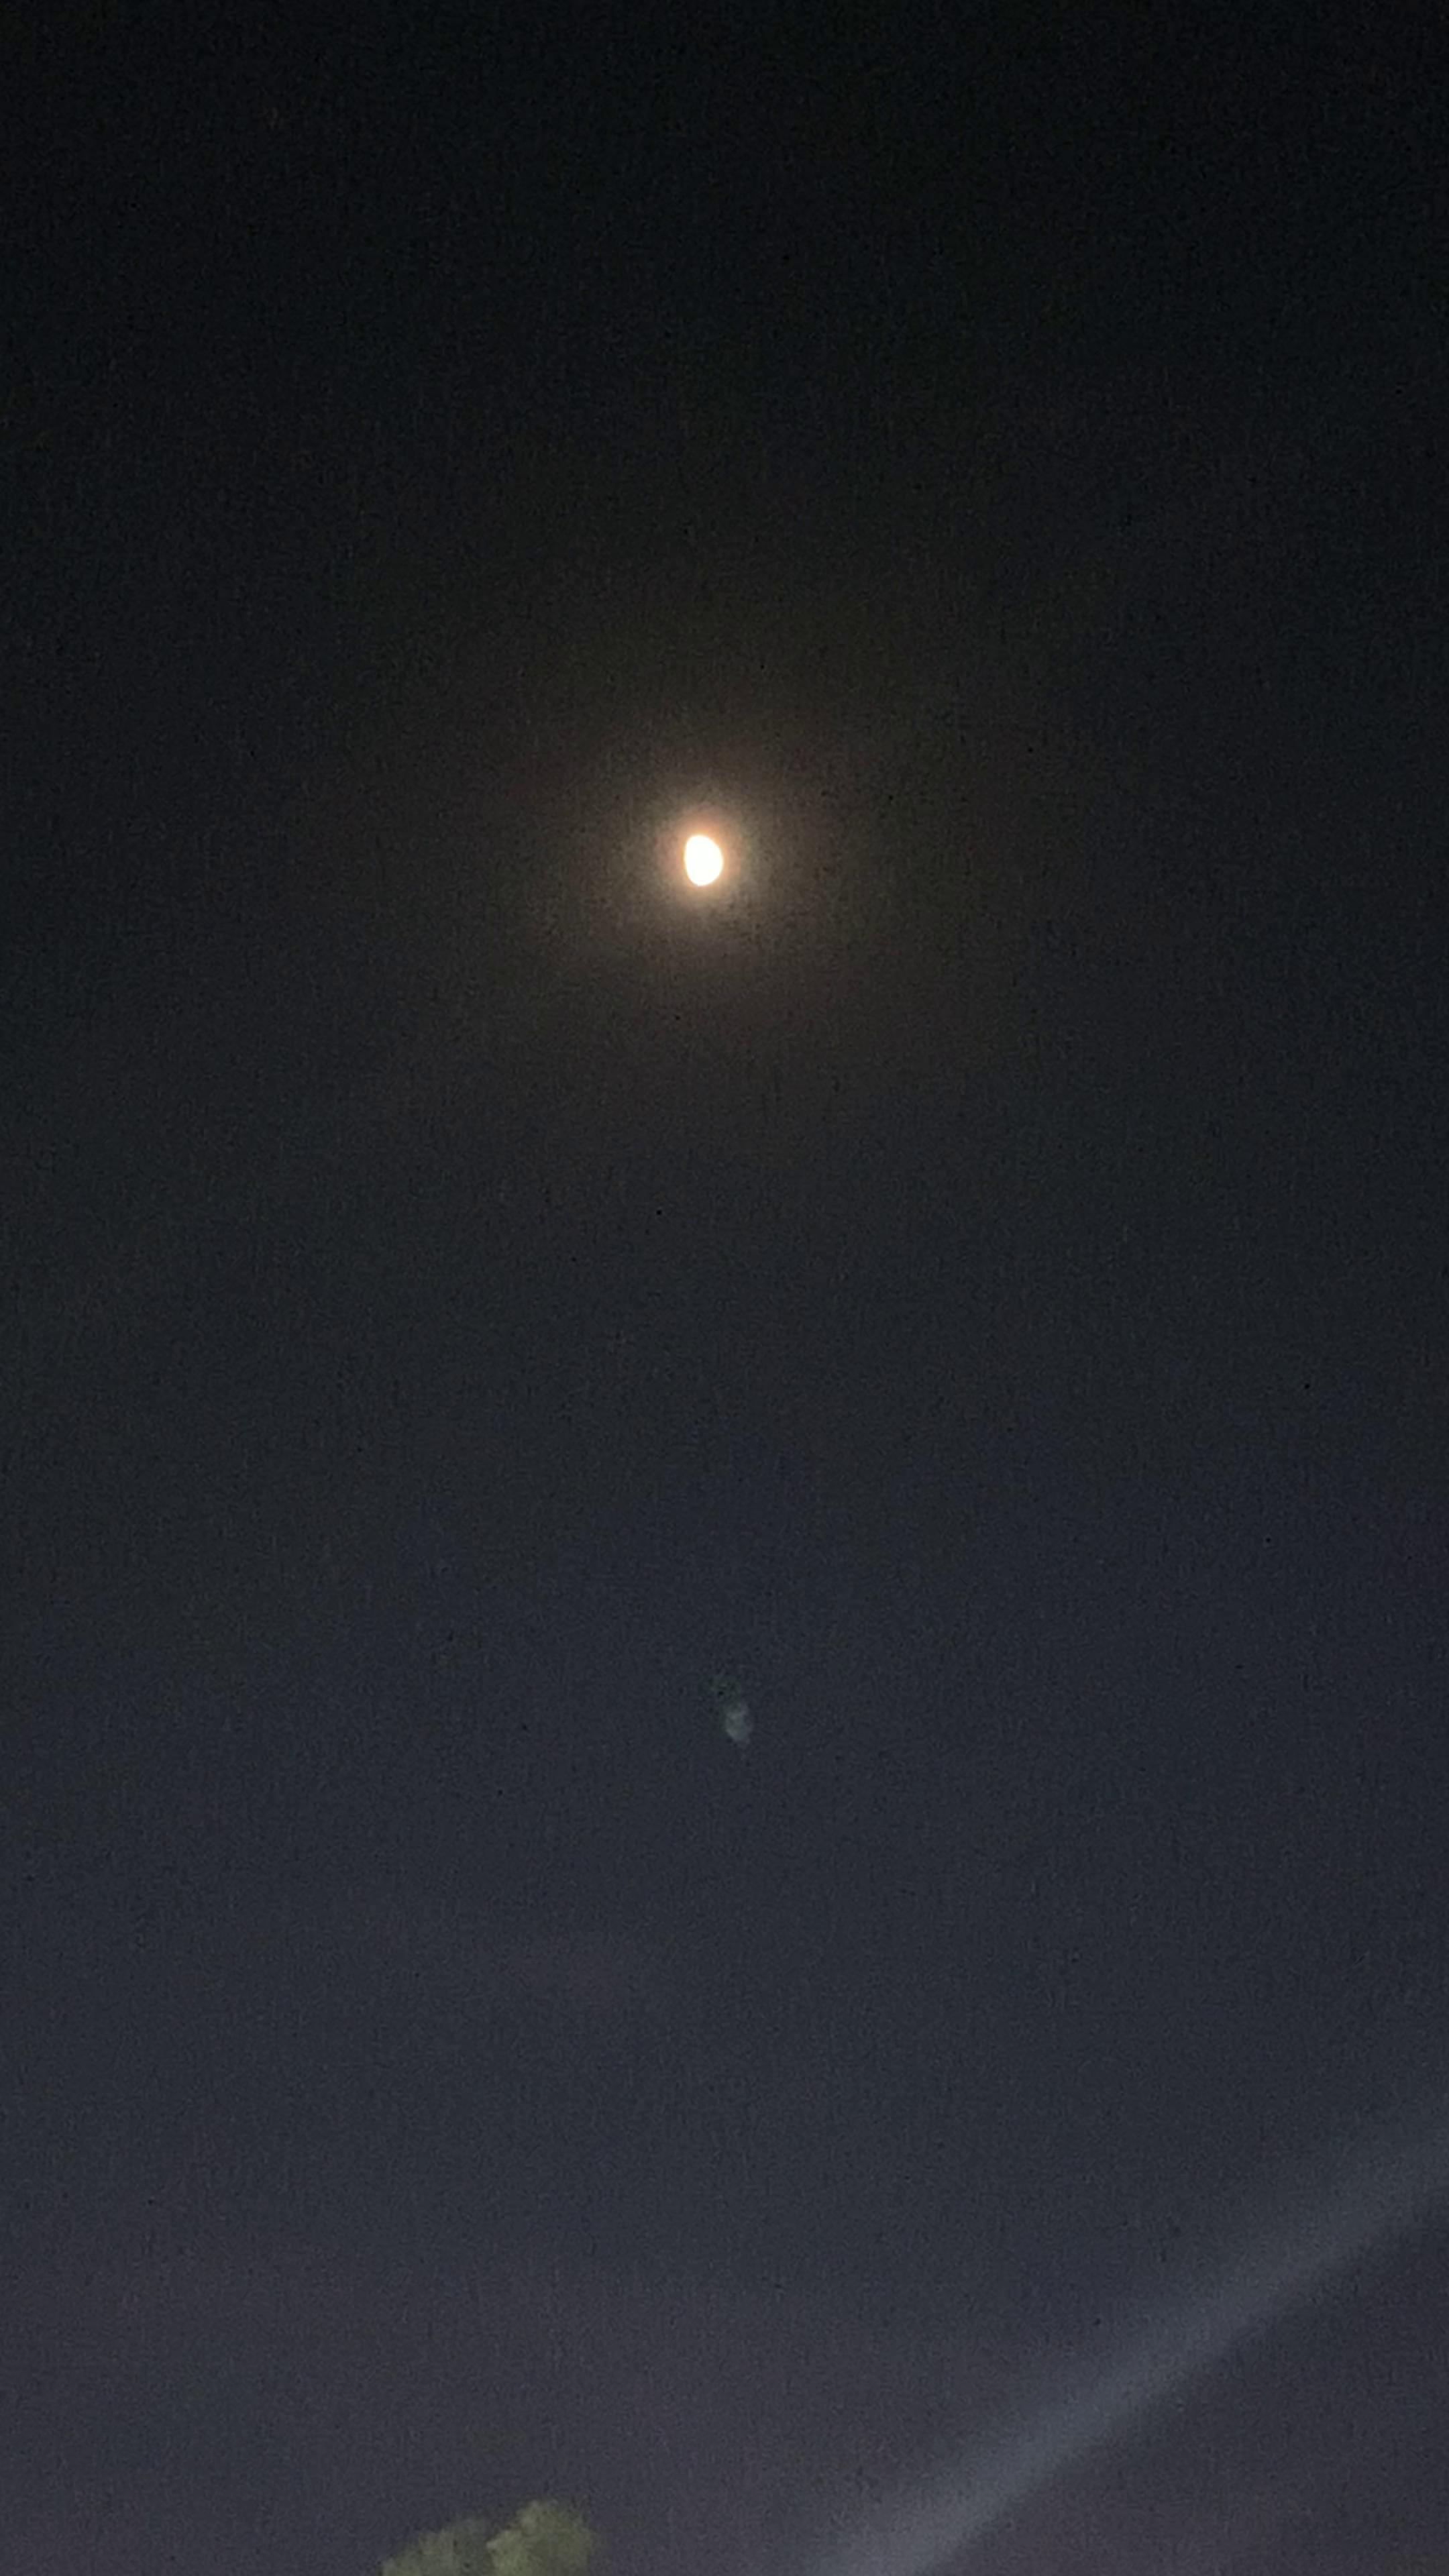moon: (653, 801, 770, 931)
